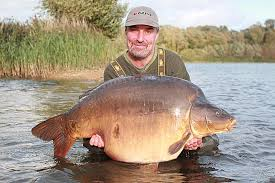carp: (30, 72, 238, 165)
